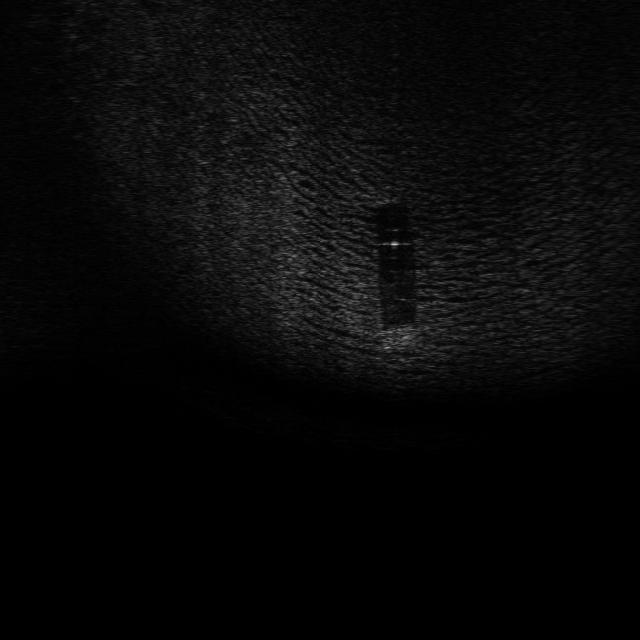cube: (380, 325, 420, 352)
